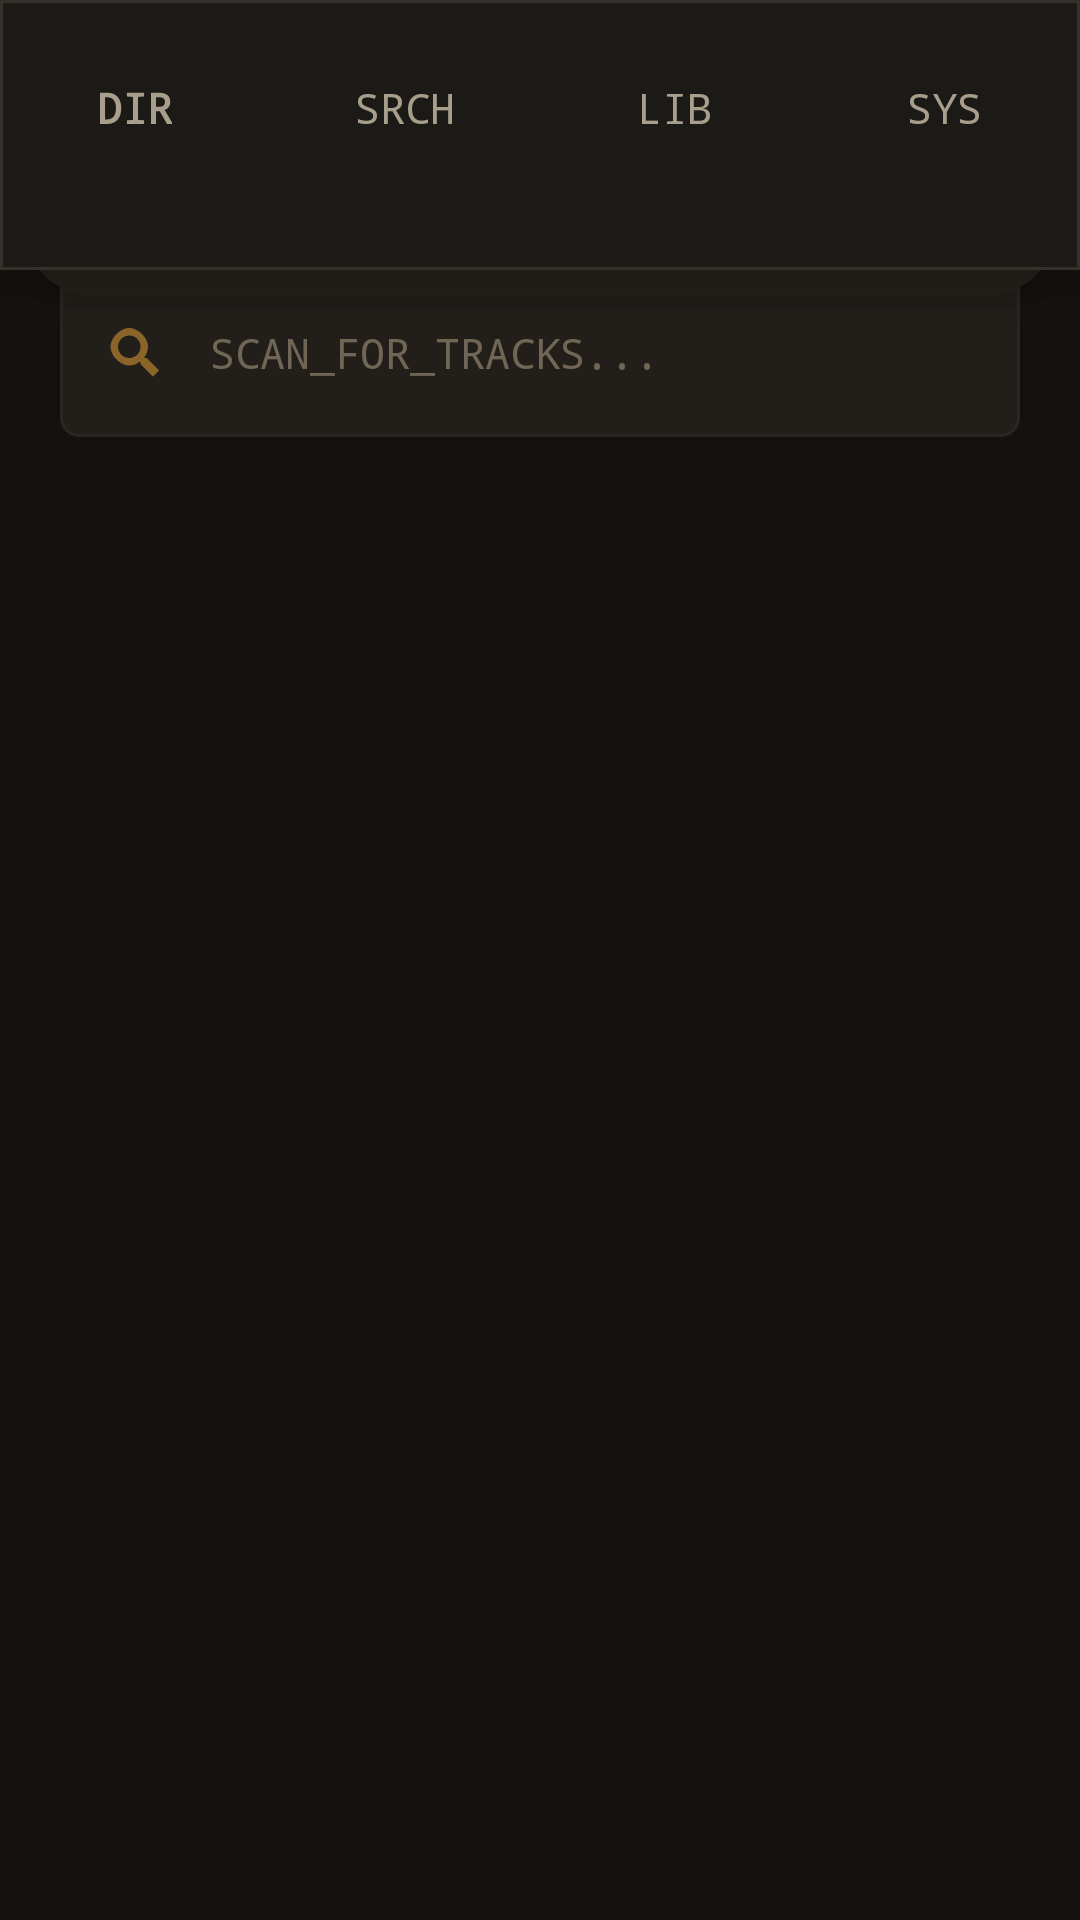

Point at icon controls on the screen. Image size 1080 × 1920, points as point (x, y).
Szukaj: point (134, 352)
